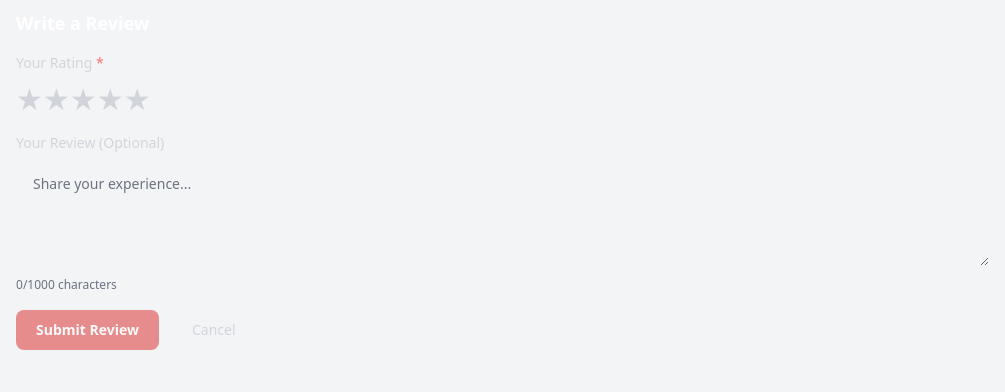
Test case: ReviewForm Component › Form Submission › disables form inputs during submission
Click the 5th button "★".
click(137, 99)  # box [124, 81, 150, 117]
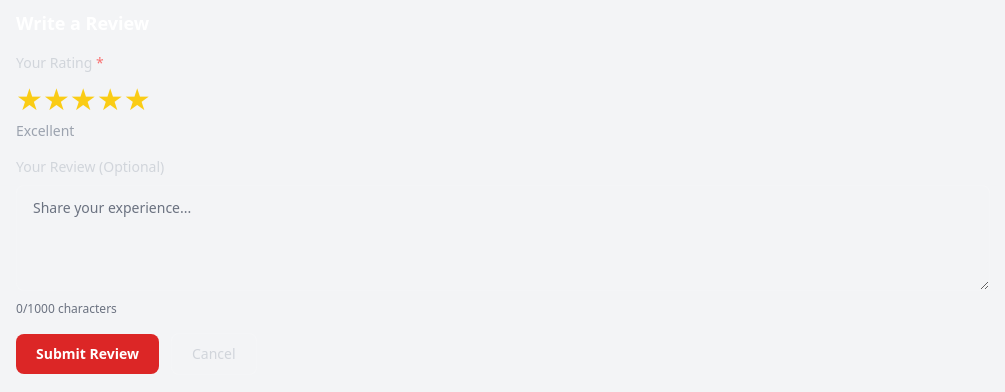
Click the button "Submit Review".
click(88, 354)  # box [16, 334, 159, 374]
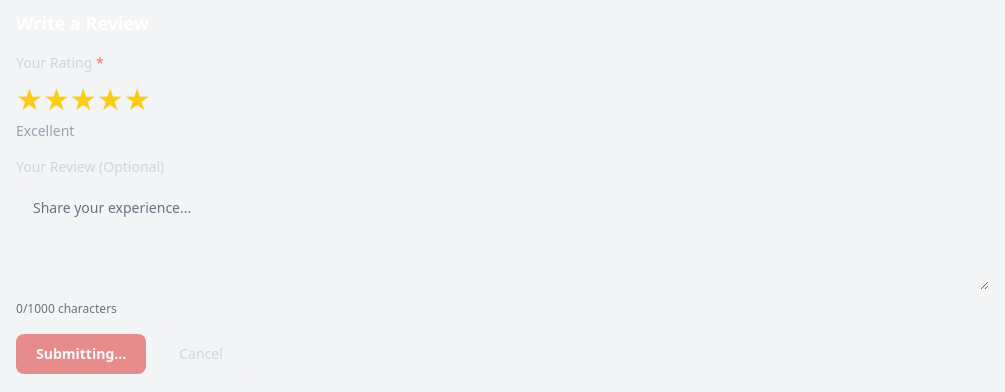
expect the button named "submit review" is disabled: met, box [16, 334, 146, 374]
expect the button "Cancel" is disabled: met, box [158, 333, 244, 375]
